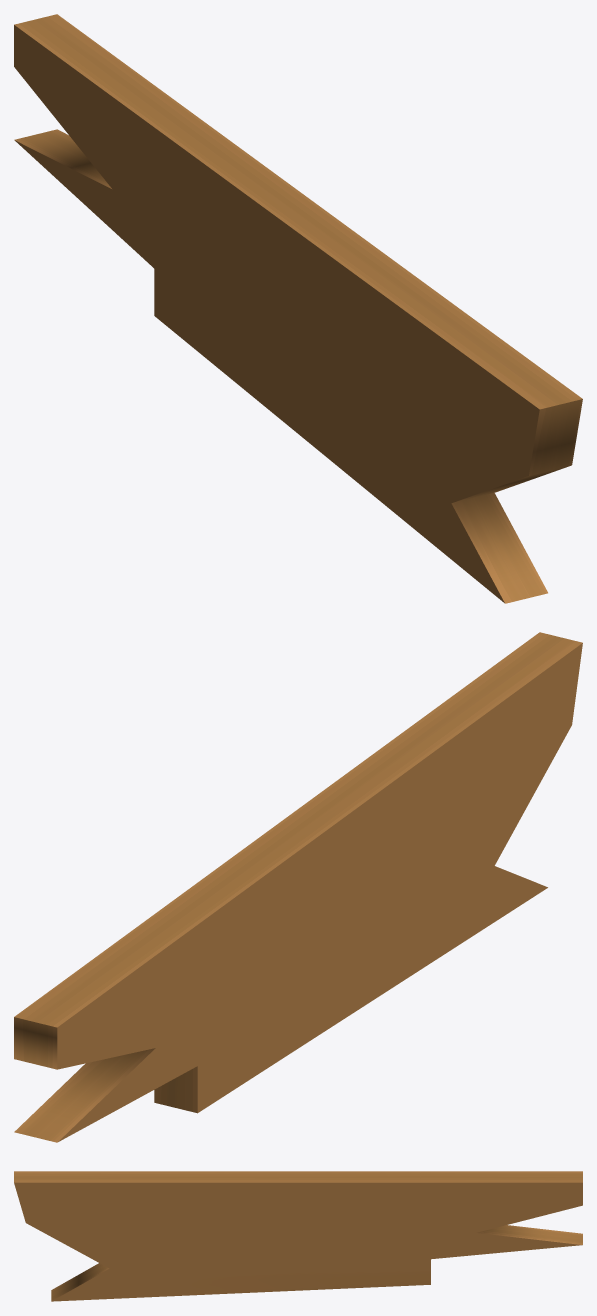
Rendered from hahen_3.fbx.
3 views of the same model, one above another, from view 1: azimuth 30°, elevation 25°; view 2: azimuth 150°, elevation 25°; view 3: azimuth 270°, elevation 25° (orthographic). The views are drawn at different scales.
Parts seen in each view (by area): view 1: Hahen_3; view 2: Hahen_3; view 3: Hahen_3.
Part boxes in pixels (<box>): Hahen_3: <box>14,14,582,603</box>; Hahen_3: <box>14,632,582,1142</box>; Hahen_3: <box>14,1171,582,1301</box>.
Size of the model in its own units: 0.5356 by 2.6 by 11.28.
